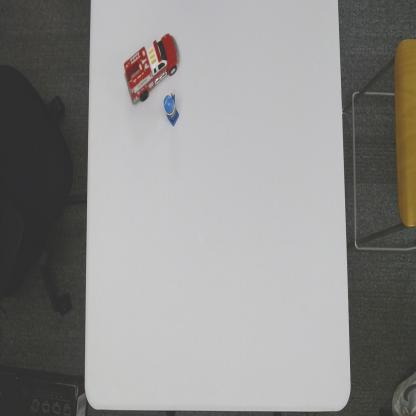Firetruck: (122, 31, 180, 105)
